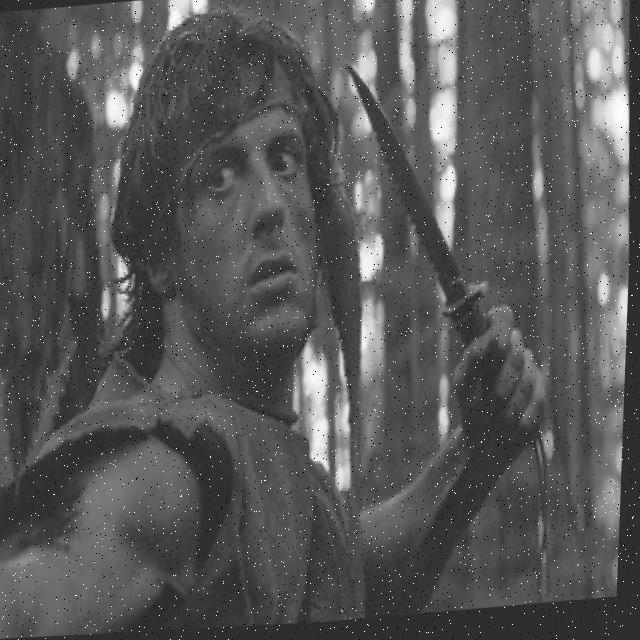knife: (328, 47, 496, 352)
